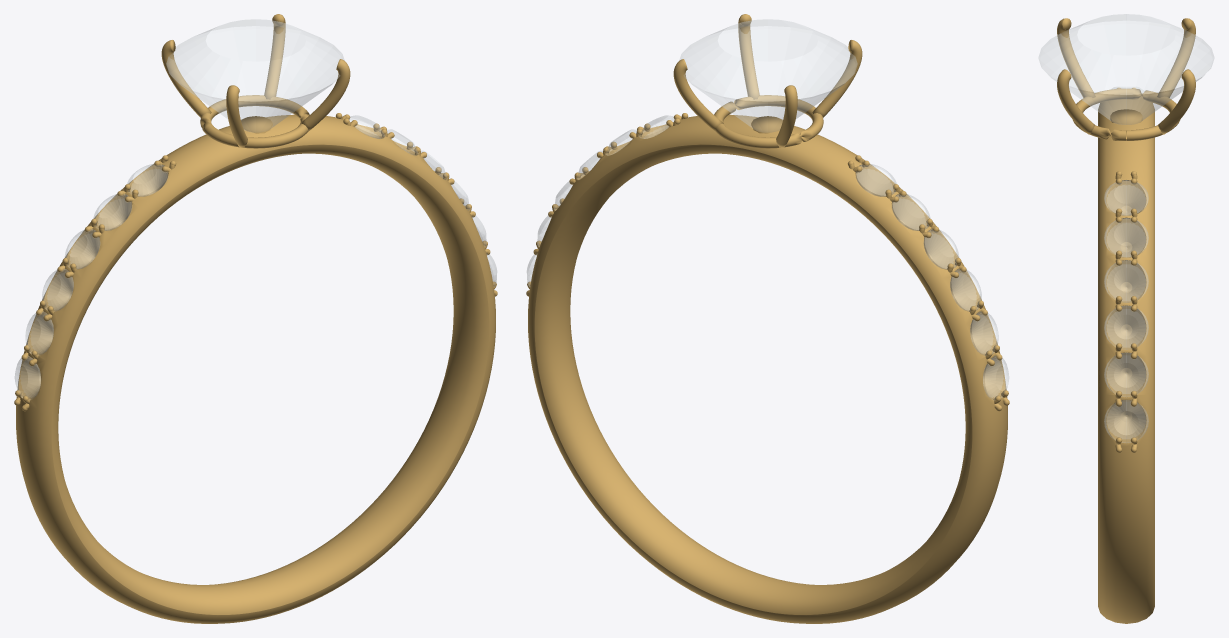
The model's file is layouts-side-stone.glb.
The picture shows the model from 3 angles, left to right: view 1: azimuth 30°, elevation 25°; view 2: azimuth 150°, elevation 25°; view 3: azimuth 270°, elevation 25°; orthographic projection.
Parts seen in each view (by area): view 1: Band, Gem, Lower gallery, Prong.001, Prong, Prong.003, Gem.003, Gem.002, Gem.004, Gem.001, Gem.005, Gem.006 (+1 smaller); view 2: Band, Gem, Lower gallery, Prong.002, Prong.003, Prong, Gem.003, Gem.002, Gem.004, Gem.001, Gem.005, Gem.006 (+1 smaller); view 3: Band, Gem, Lower gallery, Gem.010, Gem.011, Gem.012, Gem.009, Gem.008, Gem.007, Prong.001, Prong.002, Prong (+2 smaller).
Part boxes in pixels (box(x1,y1,x2,y2)): Band: box(16, 114, 495, 623); Gem: box(166, 19, 344, 132); Lower gallery: box(200, 95, 309, 148); Prong.001: box(161, 40, 211, 117); Prong: box(264, 14, 285, 99); Prong.003: box(300, 59, 350, 131); Gem.003: box(65, 229, 100, 269); Gem.002: box(93, 194, 131, 230); Gem.004: box(42, 269, 73, 311); Gem.001: box(127, 164, 167, 196); Gem.005: box(25, 312, 53, 355); Gem.006: box(15, 356, 40, 400); Band: box(528, 114, 1007, 623); Gem: box(679, 19, 857, 132); Lower gallery: box(714, 95, 823, 148); Prong.002: box(812, 40, 862, 117); Prong.003: box(738, 14, 759, 99); Prong: box(673, 59, 723, 131); Gem.003: box(923, 229, 958, 269); Gem.002: box(892, 194, 930, 230); Gem.004: box(950, 269, 981, 311); Gem.001: box(856, 164, 896, 196); Gem.005: box(970, 312, 998, 355); Gem.006: box(983, 356, 1008, 400); Band: box(1098, 97, 1154, 623); Gem: box(1038, 14, 1214, 124); Lower gallery: box(1073, 88, 1179, 140); Gem.010: box(1104, 305, 1148, 349); Gem.011: box(1104, 353, 1148, 397); Gem.012: box(1104, 400, 1148, 443); Gem.009: box(1104, 260, 1148, 302); Gem.008: box(1104, 218, 1148, 257); Gem.007: box(1104, 180, 1148, 215); Prong.001: box(1157, 18, 1195, 97); Prong.002: box(1057, 18, 1095, 97); Prong: box(1158, 69, 1195, 134).
Size of the model in its own units: 19.86 by 22.94 by 6.5.
